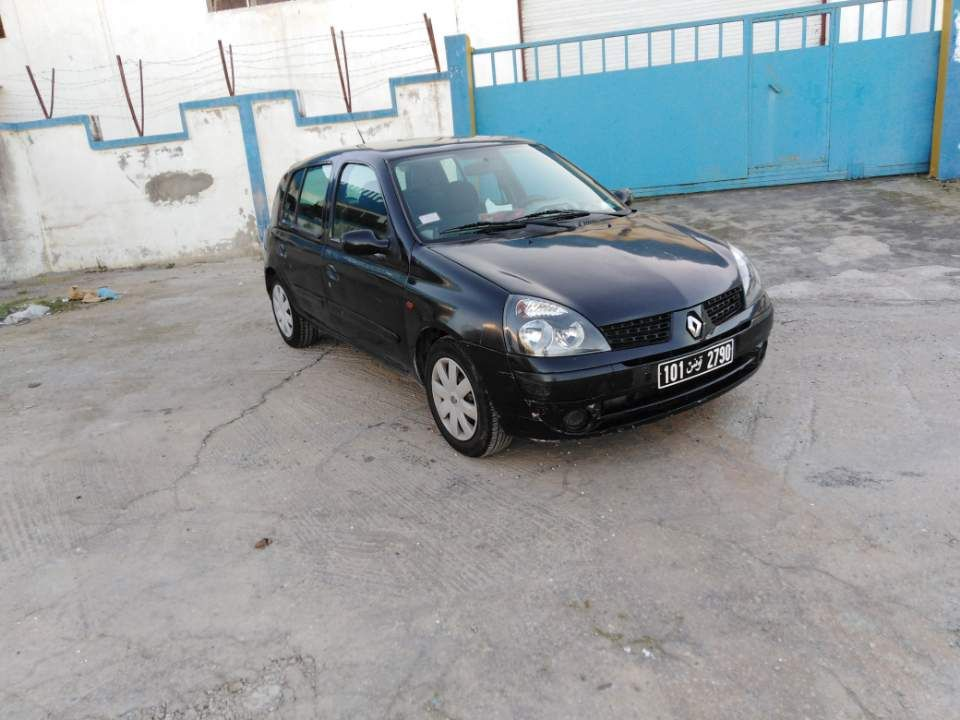LP: (657, 338, 734, 389)
